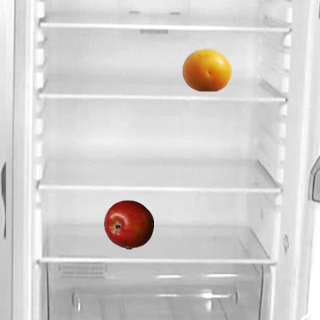Apple Braeburn: (103, 199, 153, 249)
Cherry Wax Yellow: (181, 44, 231, 94)
